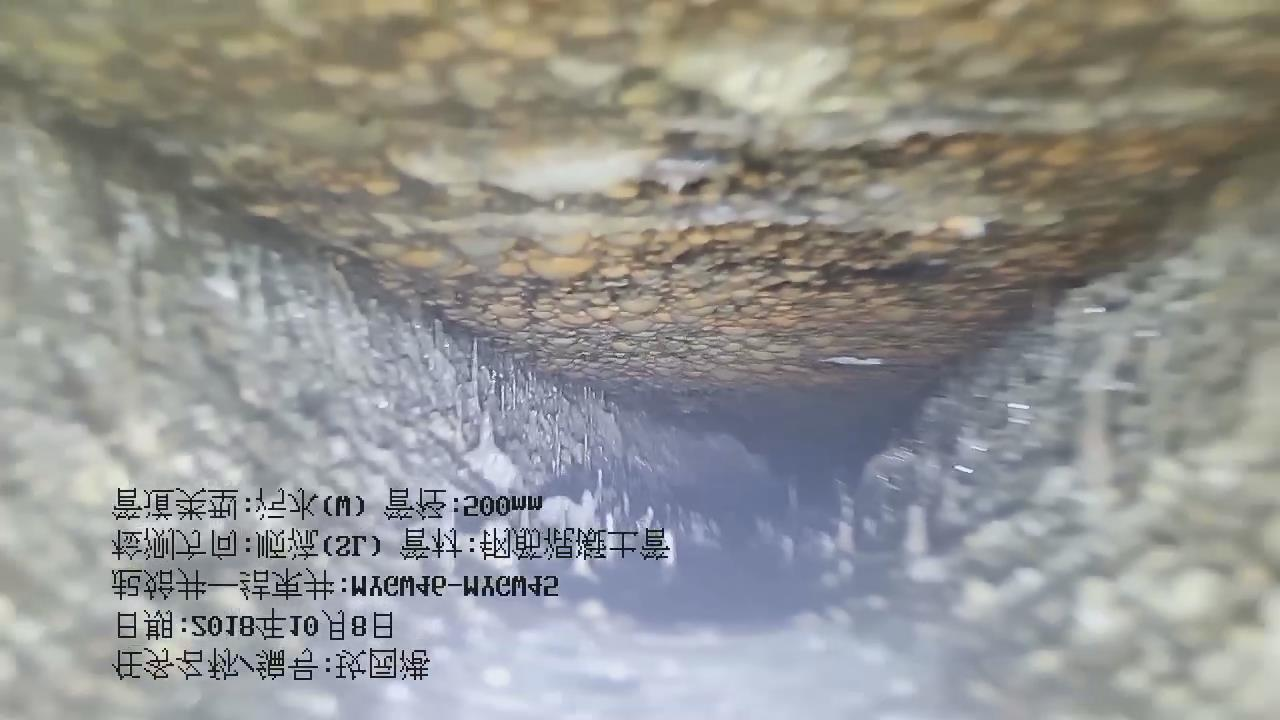FZ: (0, 1, 1279, 464)
JG: (0, 116, 1279, 720)
